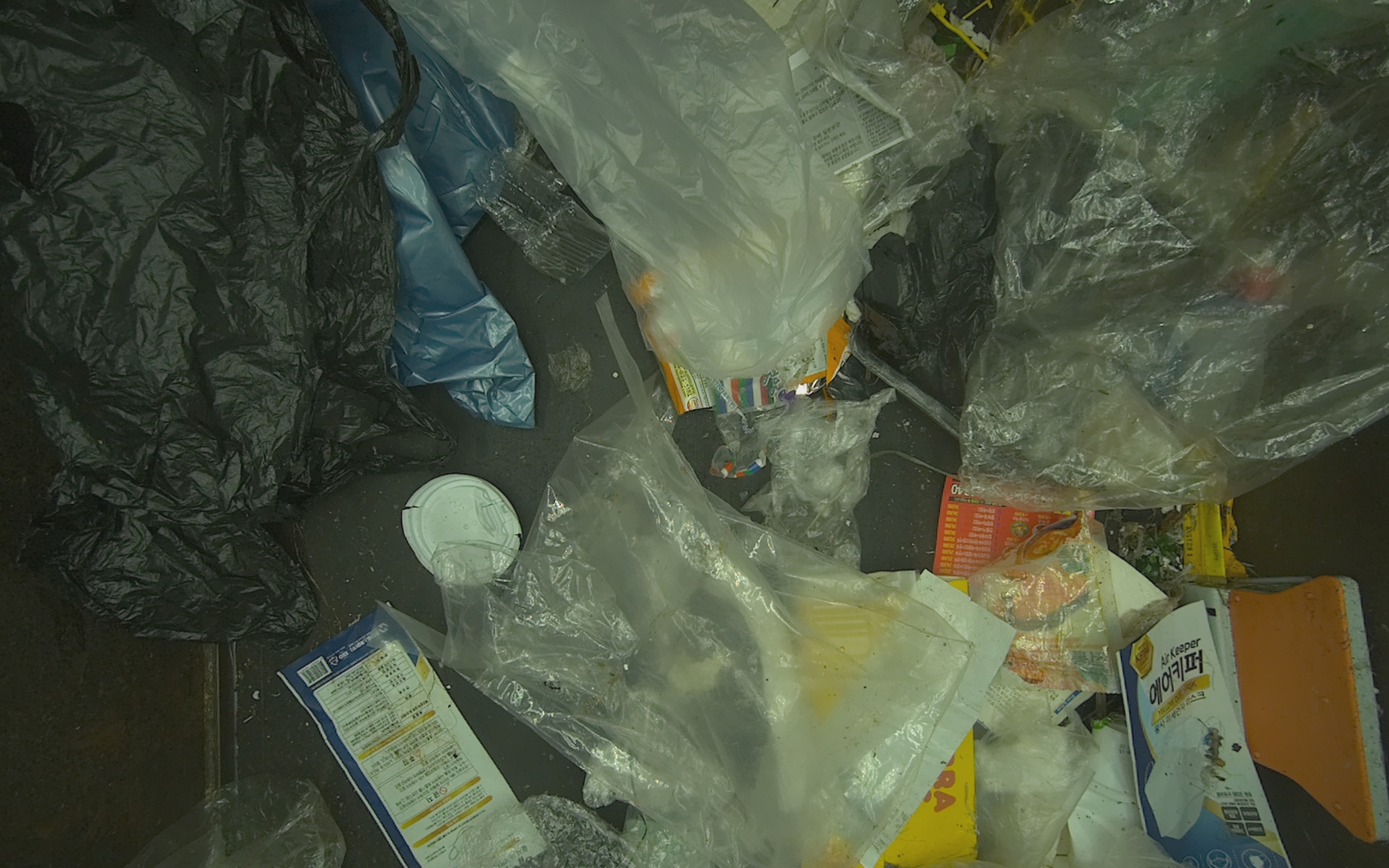PS-W: (401, 474, 523, 573)
